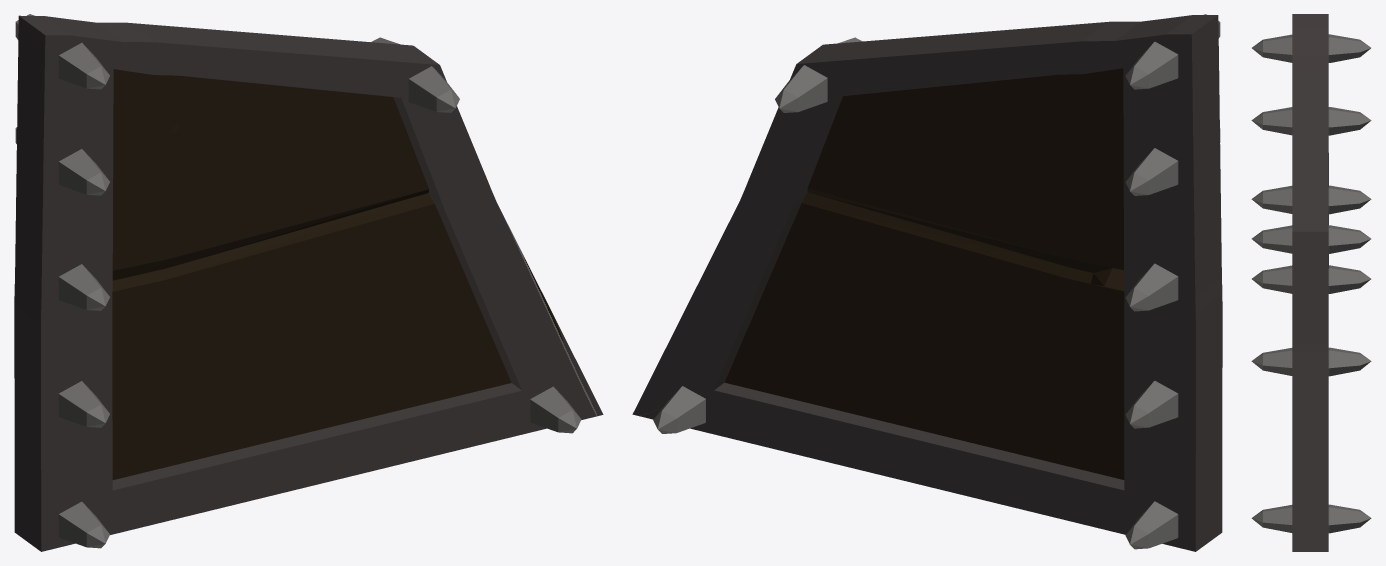
File: CastleOutsideGate_Right.fbx
The picture shows the model from 3 angles, left to right: view 1: azimuth 30°, elevation 25°; view 2: azimuth 150°, elevation 25°; view 3: azimuth 270°, elevation 25°; orthographic projection. The views are drawn at different scales.
Visible parts, largest first — view 1: CastleGate_Right; view 2: CastleGate_Right; view 3: CastleGate_Right.
Boxes of the visible parts, x1=… form: CastleGate_Right: x1=14, y1=14, x2=603, y2=551; CastleGate_Right: x1=632, y1=14, x2=1222, y2=551; CastleGate_Right: x1=1251, y1=14, x2=1371, y2=551.
Bounding box in the file's own units: 3.69 × 3.23 × 1.
